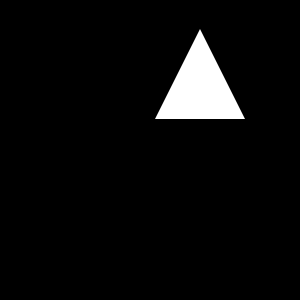triangle: (155, 29, 245, 119)
